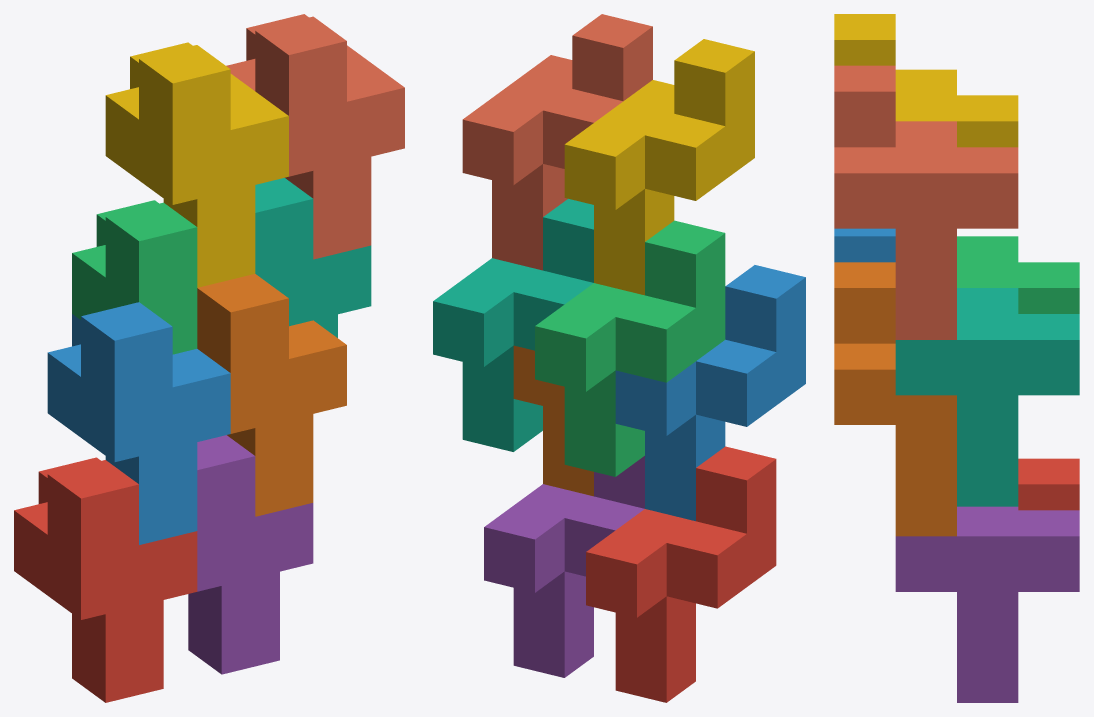
The model's file is tiling.obj.
3 renders of one model, left to right at view 1: azimuth 30°, elevation 25°; view 2: azimuth 150°, elevation 25°; view 3: azimuth 270°, elevation 25°, orthographic. The views are drawn at different scales.
Parts seen in each view (by area): view 1: copy_1_domain_1, copy_1_domain_4, copy_1_domain_2, copy_1_domain_8, copy_1_domain_6, copy_1_domain_5, copy_1_domain_3, copy_1_domain_7; view 2: copy_1_domain_1, copy_1_domain_4, copy_1_domain_3, copy_1_domain_2, copy_1_domain_8, copy_1_domain_7, copy_1_domain_5, copy_1_domain_6; view 3: copy_1_domain_8, copy_1_domain_7, copy_1_domain_5, copy_1_domain_6, copy_1_domain_4, copy_1_domain_3, copy_1_domain_1, copy_1_domain_2.
Boxes of the visible parts, left/top/right/bottom form: copy_1_domain_1: left=14, top=457, right=197, bottom=702; copy_1_domain_4: left=105, top=42, right=288, bottom=287; copy_1_domain_2: left=47, top=302, right=230, bottom=544; copy_1_domain_8: left=226, top=14, right=404, bottom=259; copy_1_domain_6: left=197, top=274, right=346, bottom=516; copy_1_domain_5: left=188, top=435, right=313, bottom=674; copy_1_domain_3: left=72, top=200, right=197, bottom=354; copy_1_domain_7: left=255, top=178, right=371, bottom=337; copy_1_domain_1: left=586, top=446, right=776, bottom=702; copy_1_domain_4: left=564, top=39, right=754, bottom=295; copy_1_domain_3: left=535, top=220, right=725, bottom=476; copy_1_domain_2: left=615, top=265, right=805, bottom=521; copy_1_domain_8: left=462, top=14, right=652, bottom=270; copy_1_domain_7: left=433, top=198, right=593, bottom=451; copy_1_domain_5: left=484, top=456, right=644, bottom=677; copy_1_domain_6: left=513, top=345, right=593, bottom=496; copy_1_domain_8: left=834, top=65, right=1018, bottom=339; copy_1_domain_7: left=895, top=288, right=1079, bottom=506; copy_1_domain_5: left=895, top=506, right=1079, bottom=702; copy_1_domain_6: left=834, top=262, right=956, bottom=536; copy_1_domain_4: left=834, top=14, right=1018, bottom=147; copy_1_domain_3: left=957, top=236, right=1079, bottom=313; copy_1_domain_1: left=1018, top=458, right=1079, bottom=510; copy_1_domain_2: left=834, top=228, right=895, bottom=262.
Bounding box in the file's own units: 5 × 11 × 4.
